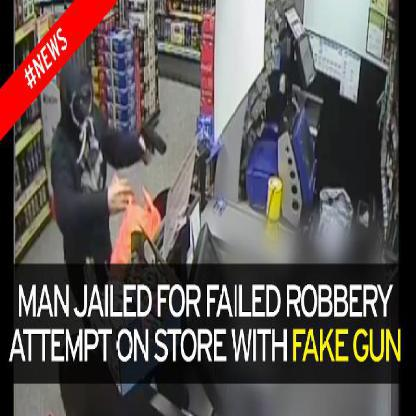pistol: (138, 114, 166, 165)
